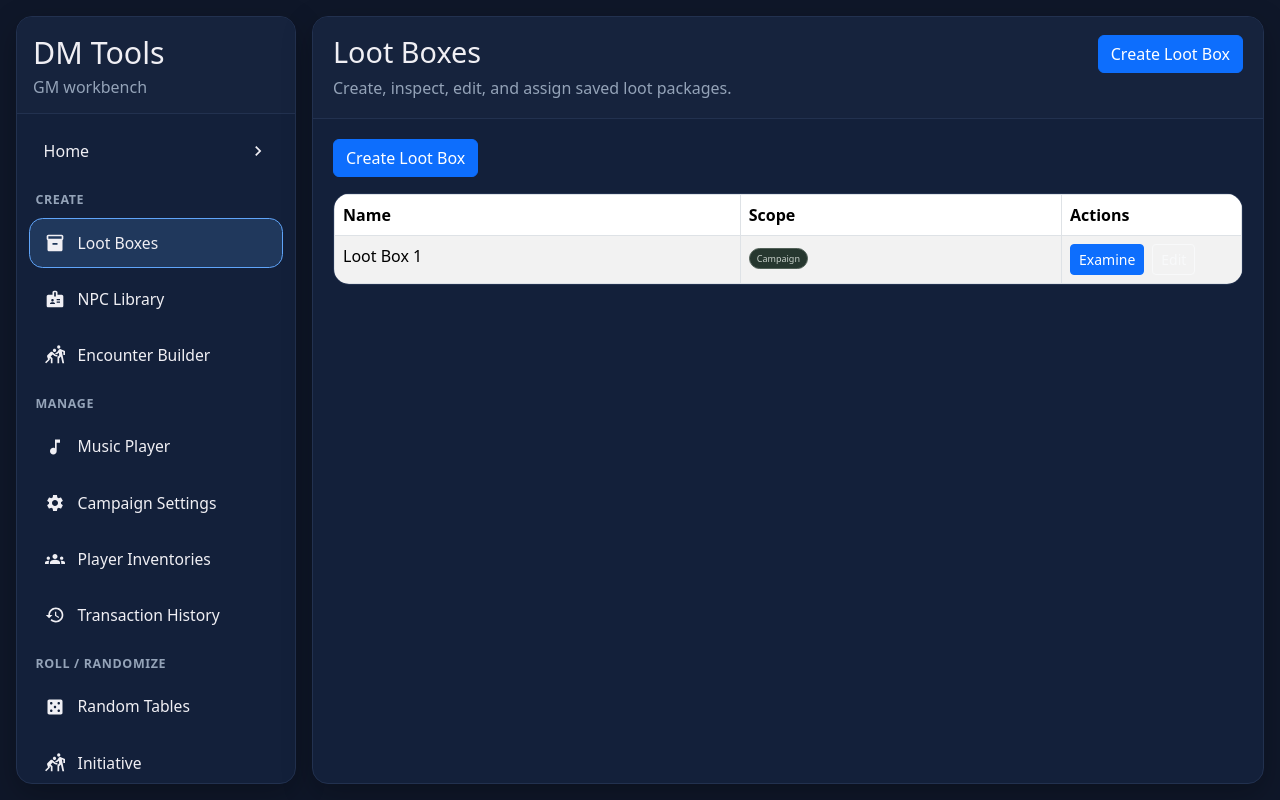
Test: DMTools Component › deletes a loot box
The image size is (1280, 800).
Expected: the text "Loot Box 1" is shown, [334,235,740,283]
# Open the view loot box modal
Click the button "Examine" at [1107, 259], box [1070,244,1144,275]
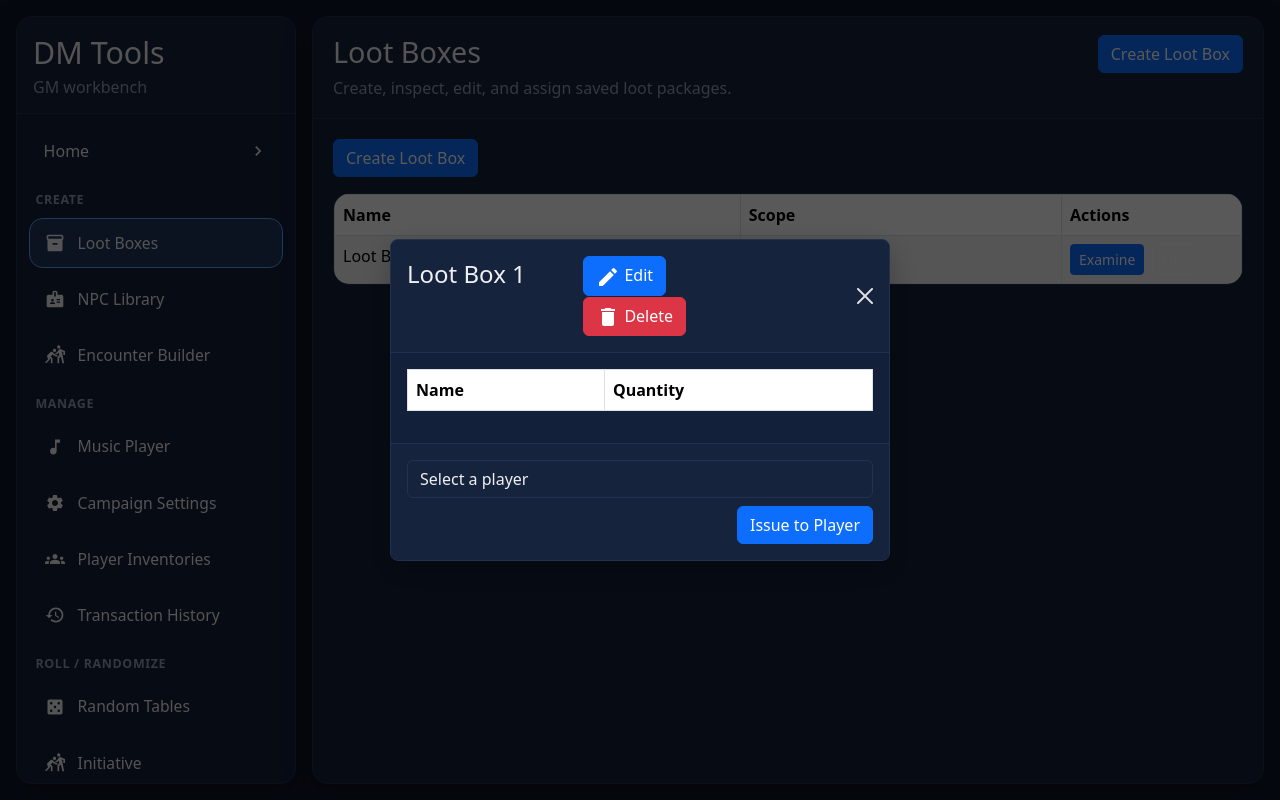
Expected: the button "Delete" is shown
# Delete the loot box
Click the button "Delete" at [635, 317], box [583,297,686,336]
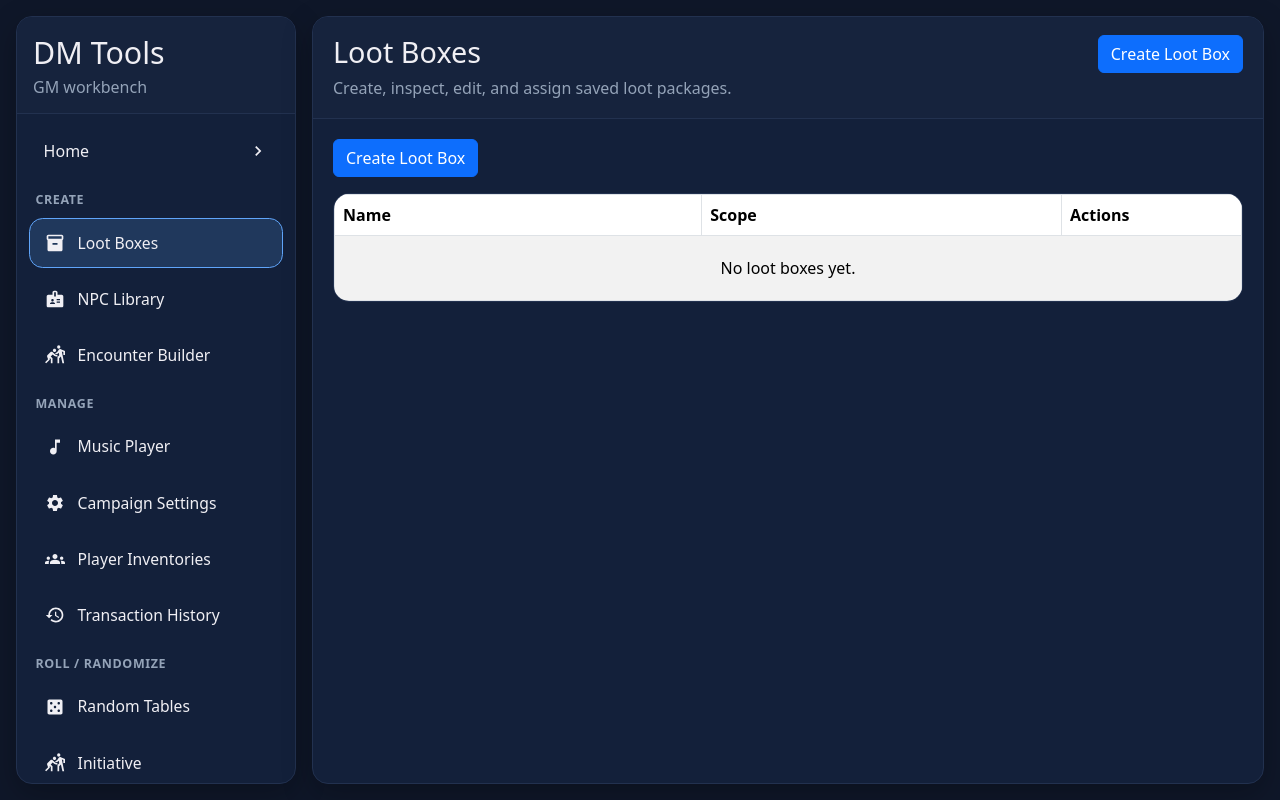
Expected: the text "Loot Box 1" is gone
